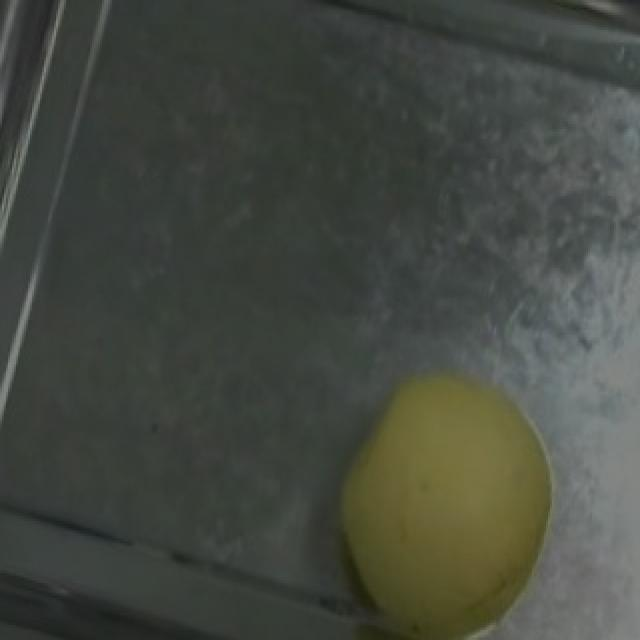Fruit: (292, 335, 592, 640)
